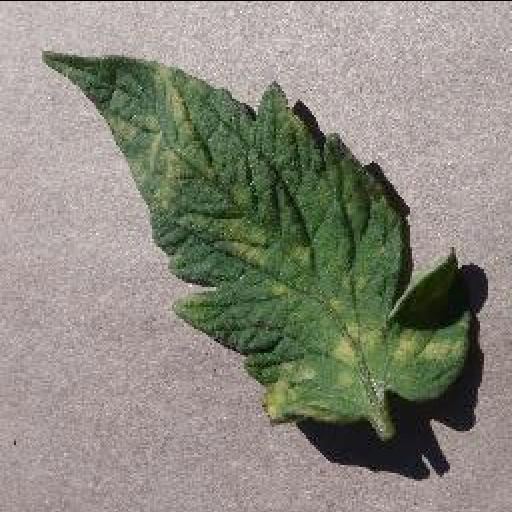disease_tomato: (40, 50, 474, 420)
